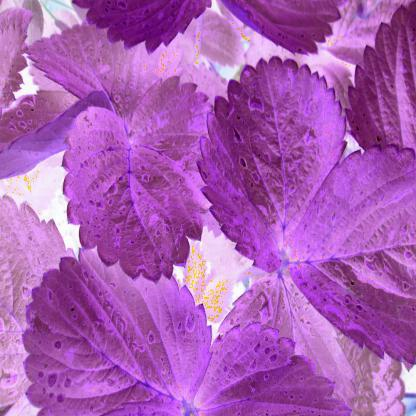Strawberry leaf: (200, 47, 350, 294), (22, 240, 217, 416), (58, 72, 209, 284)
